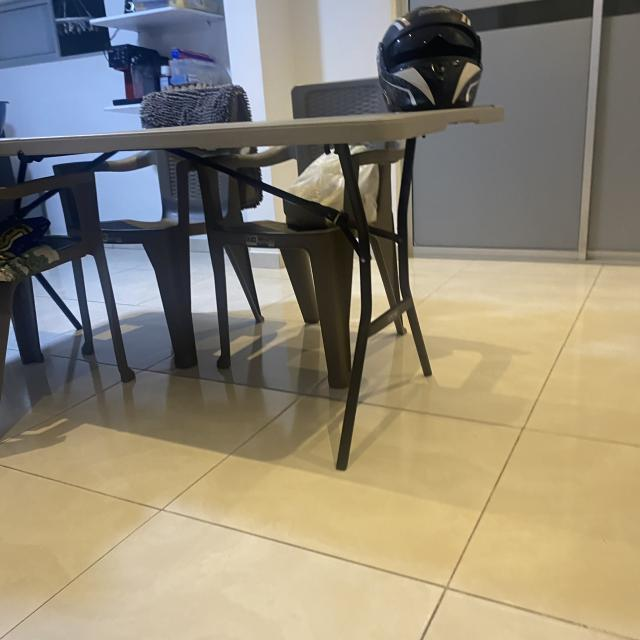obstacle: (0, 106, 516, 498)
